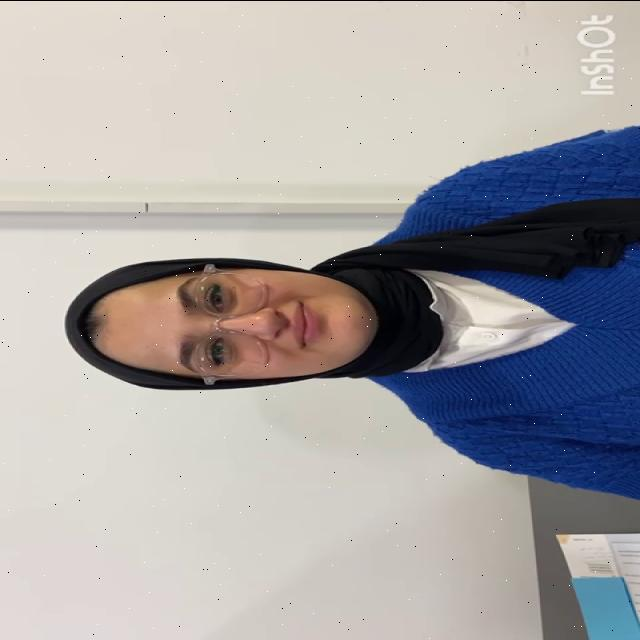happy: (100, 272, 378, 377)
